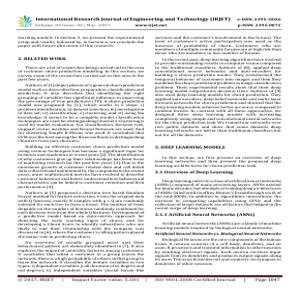image: (13, 14, 36, 29)
text: (17, 34, 145, 278), (155, 34, 284, 268), (37, 14, 284, 29)
